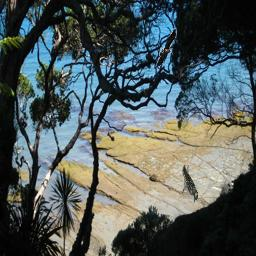Crow: (156, 28, 177, 68)
Woodpecker: (182, 165, 198, 205)
